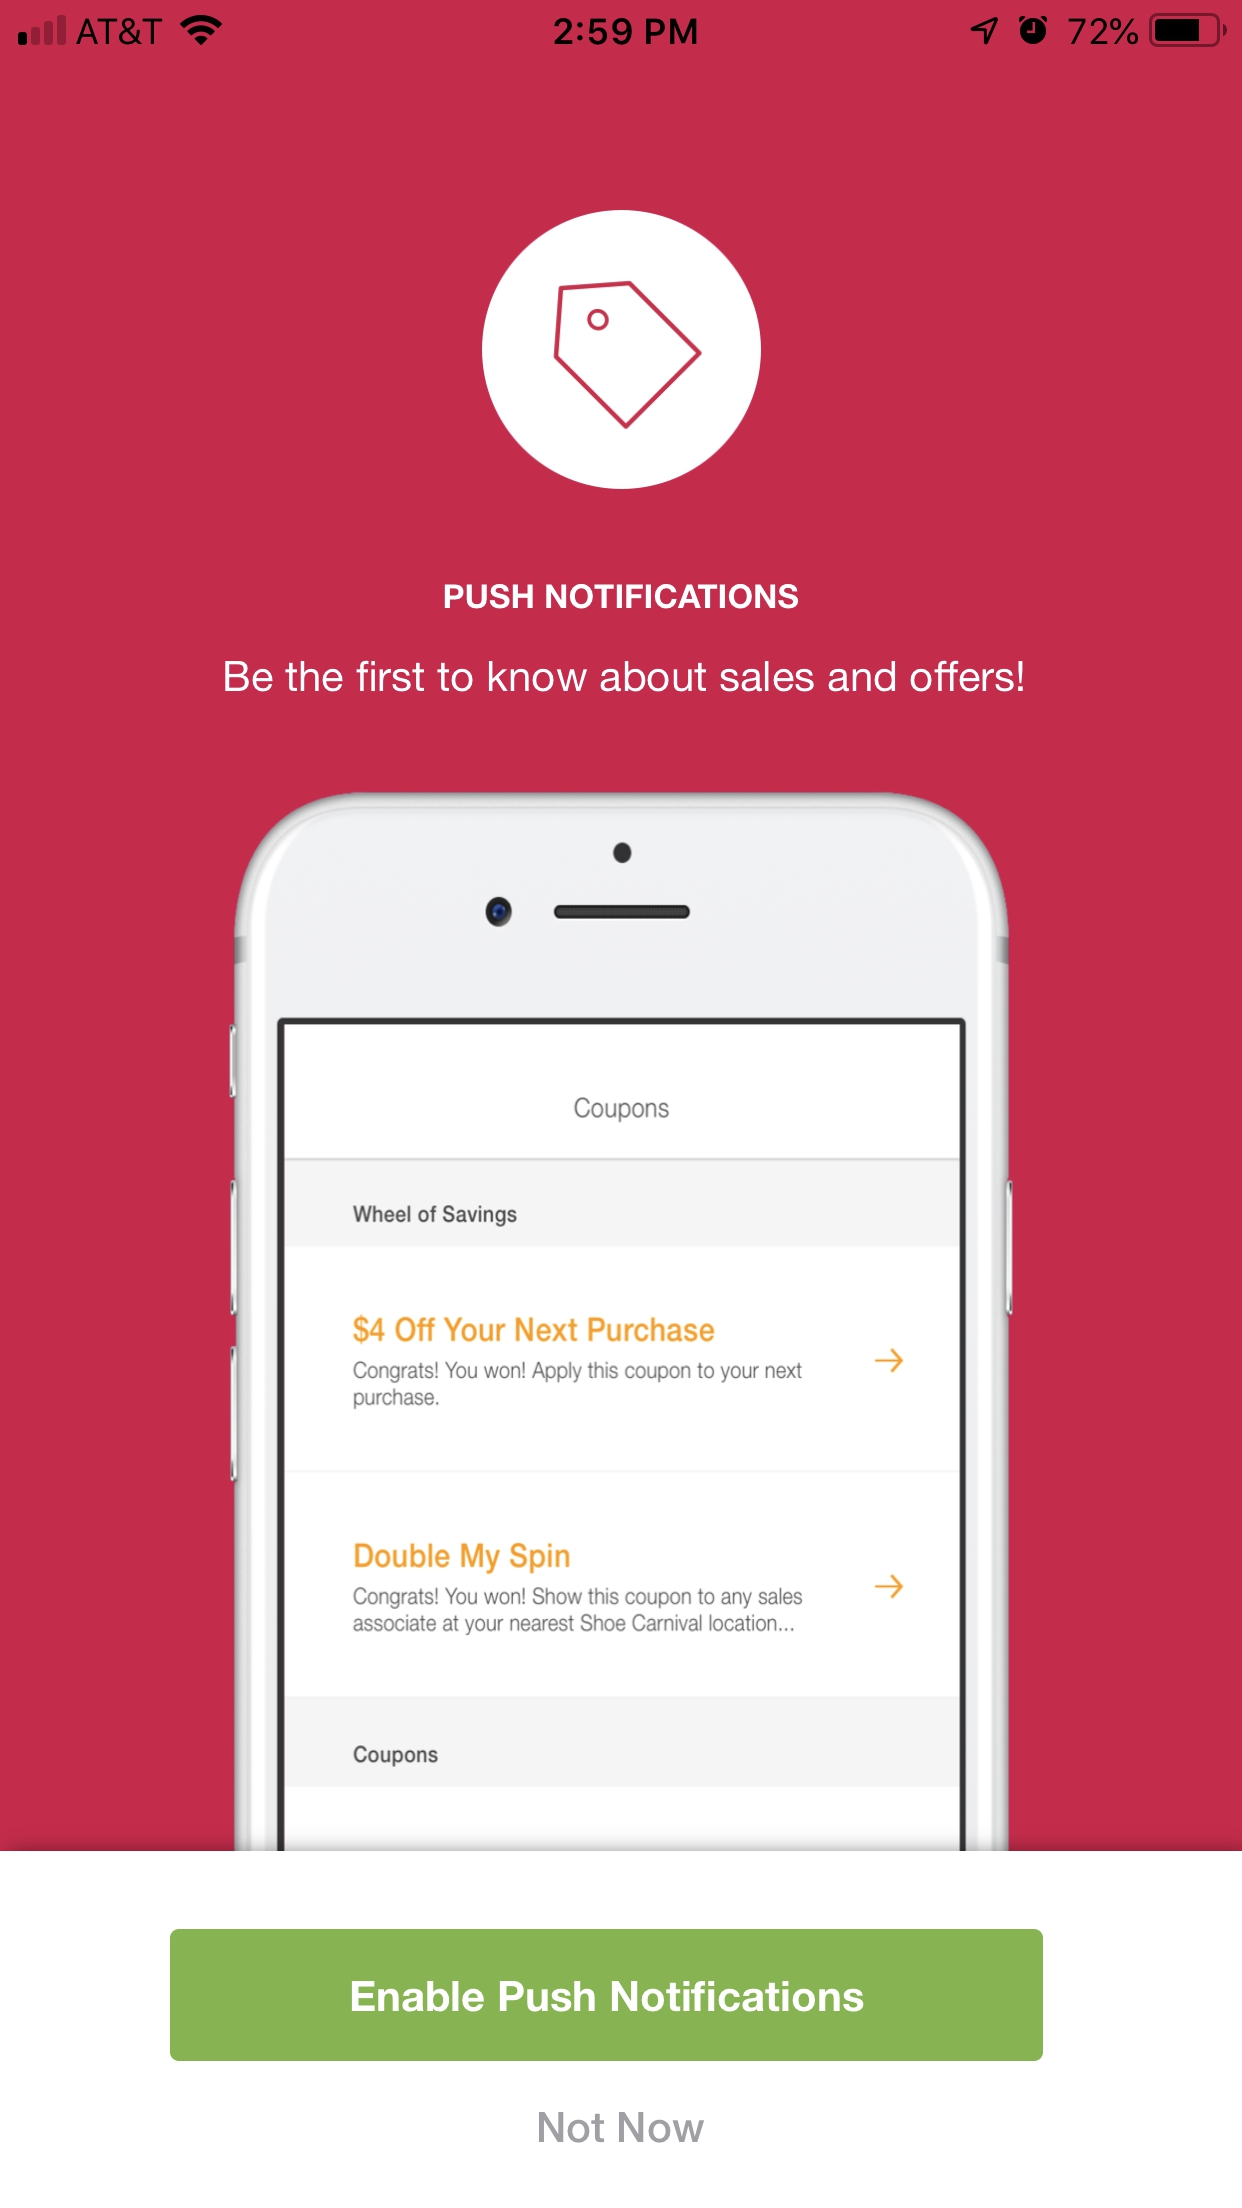Icon: (482, 209, 761, 491)
Image: (229, 792, 1015, 1852)
Text: (224, 660, 1024, 695), (444, 584, 799, 611), (538, 2111, 705, 2144)
TextButton: (170, 1929, 1043, 2062)
UpperTaskBar: (2, 2, 1242, 49)
